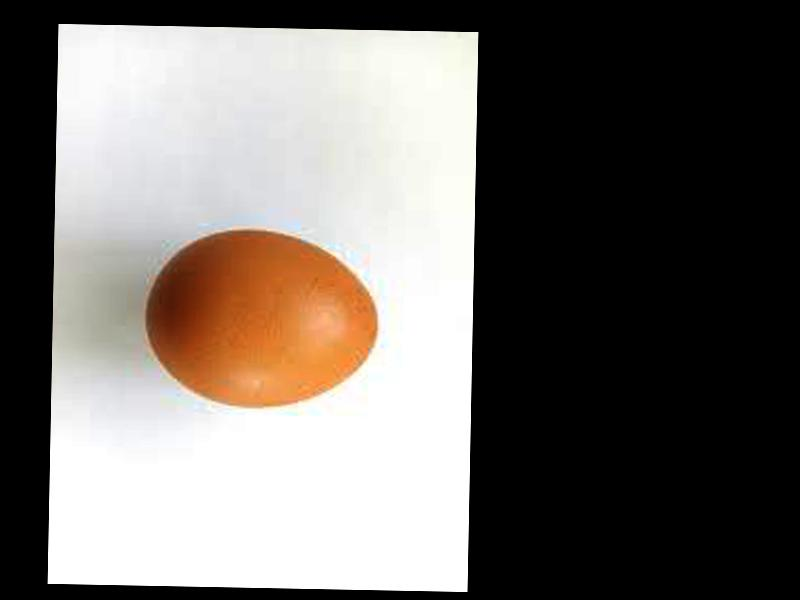Eggs: (141, 226, 383, 408)
